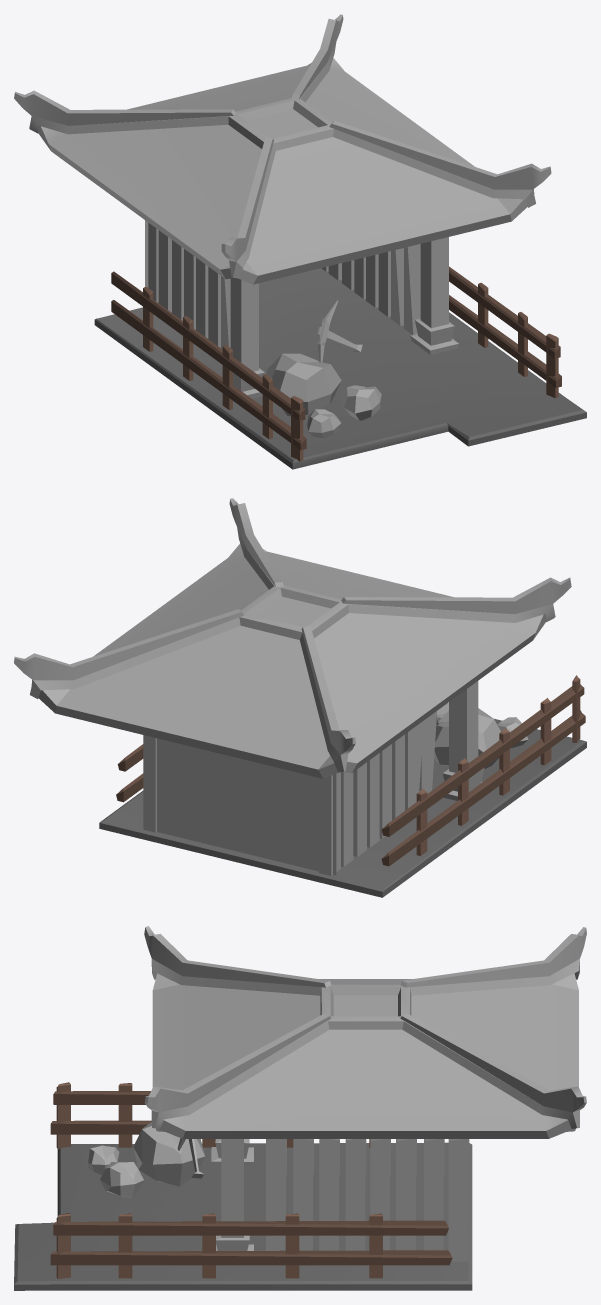
File: mine_1lvl.fbx
3 renders of one model, top to bottom at view 1: azimuth 30°, elevation 25°; view 2: azimuth 150°, elevation 25°; view 3: azimuth 270°, elevation 25°, orthographic. The views are drawn at different scales.
Visible parts, largest first — view 1: polySurface59; view 2: polySurface59; view 3: polySurface59.
Part boxes in pixels (x1,y1,x2,y2): polySurface59: (14,14,586,469); polySurface59: (14,498,586,897); polySurface59: (14,926,586,1290).
Bounding box in the file's own units: 4.79 × 2.95 × 6.88.
